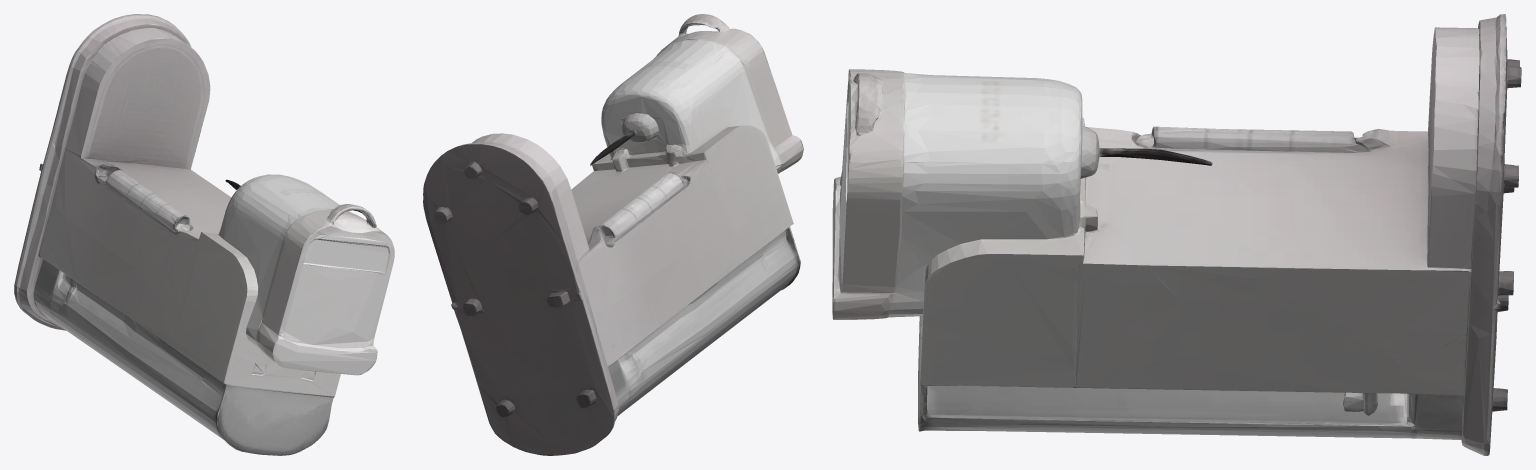
3 views of the same model, side by side, from view 1: azimuth 30°, elevation 25°; view 2: azimuth 150°, elevation 25°; view 3: azimuth 270°, elevation 25° (orthographic). The views are drawn at different scales.
Visible parts, largest first — view 1: geometry_0; view 2: geometry_0; view 3: geometry_0.
Boxes of the visible parts, x1,y1,x2,y2 form: geometry_0: (14,14,394,455); geometry_0: (423,14,803,455); geometry_0: (832,14,1521,455).
Size of the model in its own units: 0.205 by 0.318 by 0.449.
1 material, 1 textured.
